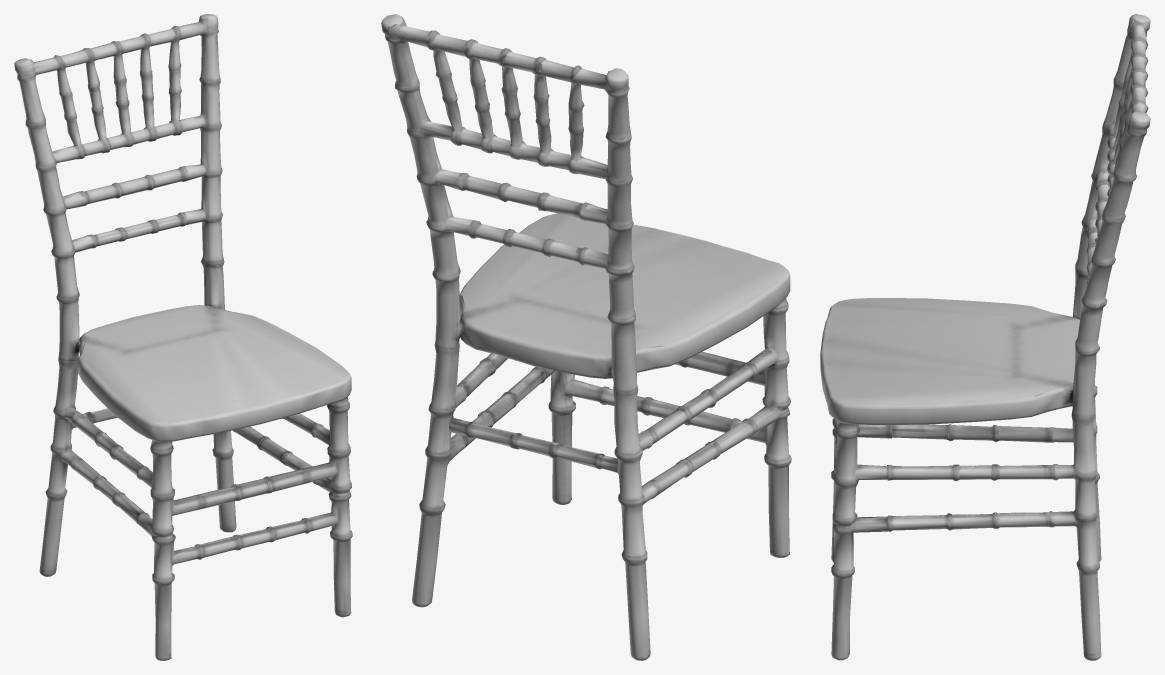
The model's file is Chiavari_Chair_Silv_0320031047_texture.glb.
3 views of the same model, side by side, from view 1: azimuth 30°, elevation 25°; view 2: azimuth 150°, elevation 25°; view 3: azimuth 270°, elevation 25° (orthographic). The views are drawn at different scales.
Parts seen in each view (by area): view 1: Mesh_0.001; view 2: Mesh_0.001; view 3: Mesh_0.001.
Boxes of the visible parts, x1,y1,x2,y2 form: Mesh_0.001: (14, 14, 352, 660); Mesh_0.001: (381, 14, 791, 660); Mesh_0.001: (820, 14, 1150, 660).
Size of the model in its own units: 0.3962 by 0.9144 by 0.5013.
Materials: 1 (1 with a texture image).
